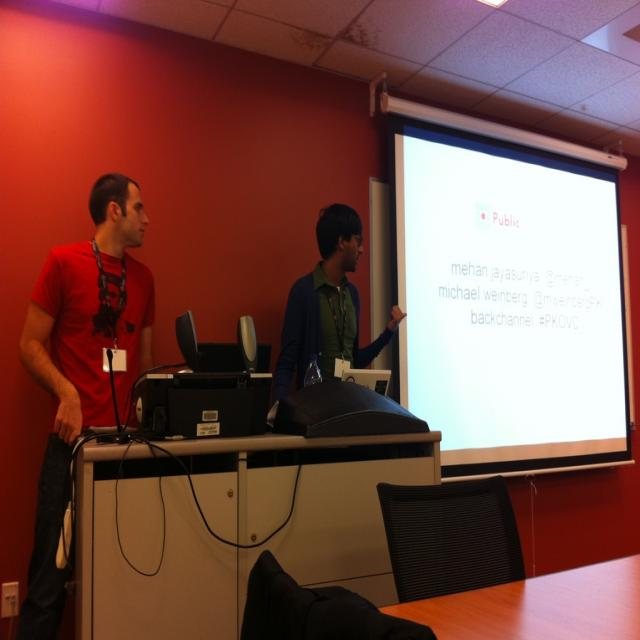chair: (376, 476, 526, 603), (242, 552, 437, 638), (341, 368, 394, 395)
desk: (8, 365, 473, 640)
laptop: (174, 310, 254, 374)
person: (14, 169, 156, 637), (268, 203, 407, 417)
tv: (384, 106, 632, 474)
